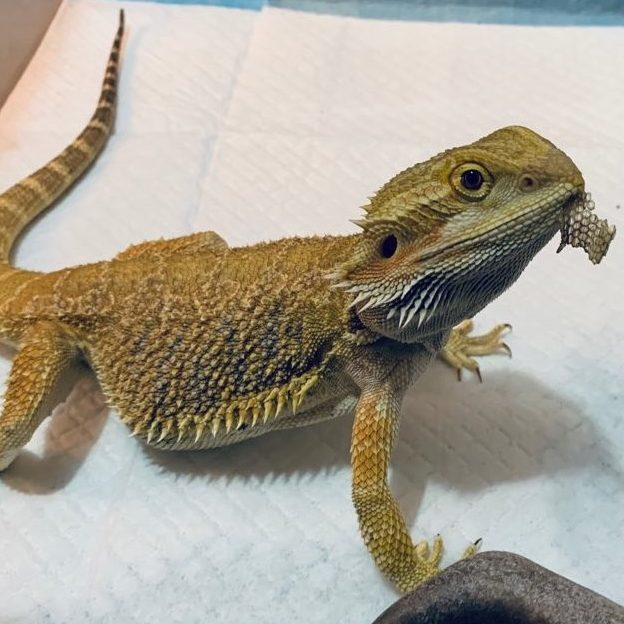bearded: (1, 10, 610, 590)
